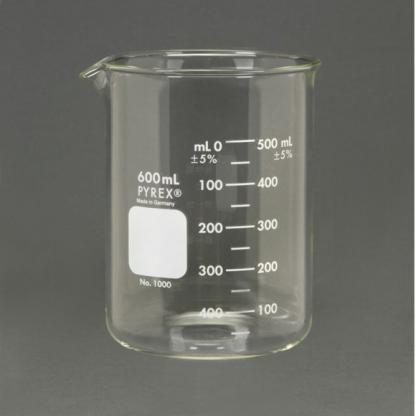Beaker: (74, 45, 321, 363)
